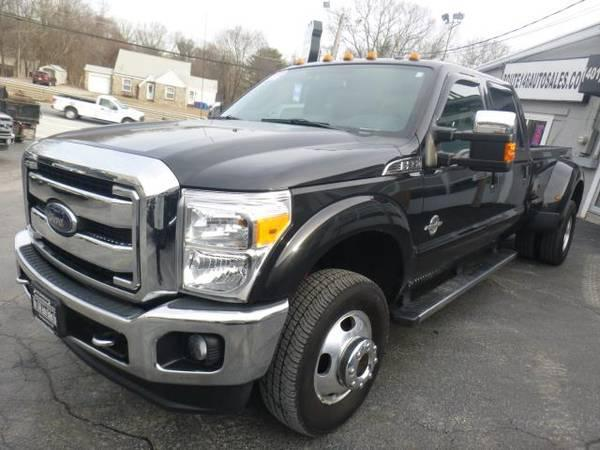Front_Bumper: (14, 236, 287, 417)
Front_Fender: (246, 152, 420, 311)
Front_Left_Door: (409, 167, 496, 302)
Front_Left_Window: (409, 76, 495, 177)
Front_Windshield: (224, 64, 442, 138)
Grille: (20, 143, 185, 305)
Hood: (44, 115, 409, 189)
Left_Headlight: (184, 189, 295, 302)
Rear_Fender: (530, 143, 580, 230)
Rear_Left_Door: (487, 157, 532, 257)
Rear_Left_Window: (483, 82, 529, 166)
Wheel: (268, 263, 397, 431), (521, 200, 580, 266)
